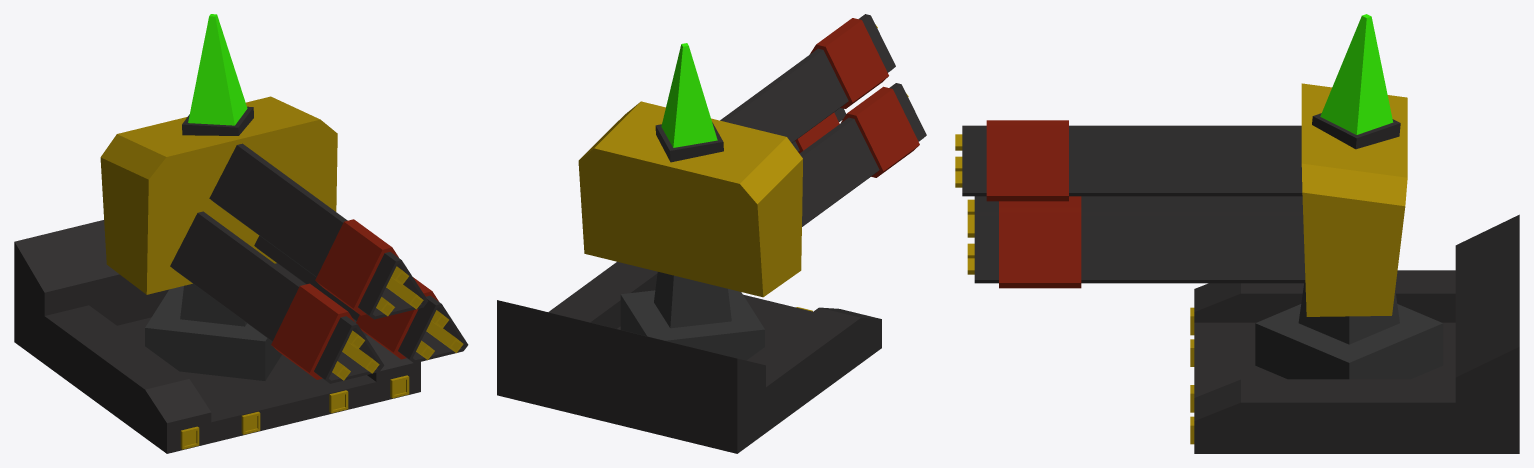
The model's file is Gun Cannon Turret.glb.
3 renders of one model, left to right at view 1: azimuth 30°, elevation 25°; view 2: azimuth 150°, elevation 25°; view 3: azimuth 270°, elevation 25°, orthographic. The views are drawn at different scales.
Visible parts, largest first — view 1: BaseCannonTurret1; view 2: BaseCannonTurret1; view 3: BaseCannonTurret1.
Boxes of the visible parts, bbox=[...] form: BaseCannonTurret1: bbox=[14, 14, 468, 453]; BaseCannonTurret1: bbox=[497, 14, 926, 453]; BaseCannonTurret1: bbox=[955, 14, 1519, 453].
Bounding box in the file's own units: 2.66 × 3.5 × 4.81.
Materials: 1 (1 with a texture image).
